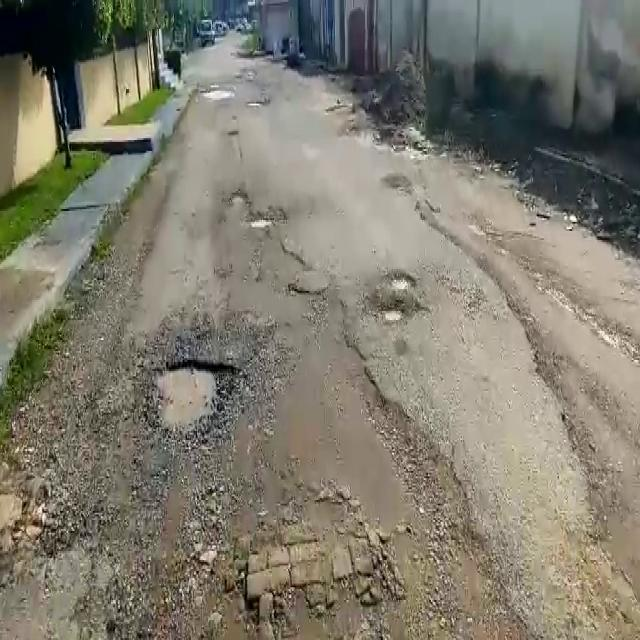pothole: (151, 362, 242, 439), (382, 271, 418, 292), (380, 307, 405, 324), (251, 217, 275, 231), (229, 191, 247, 206)
